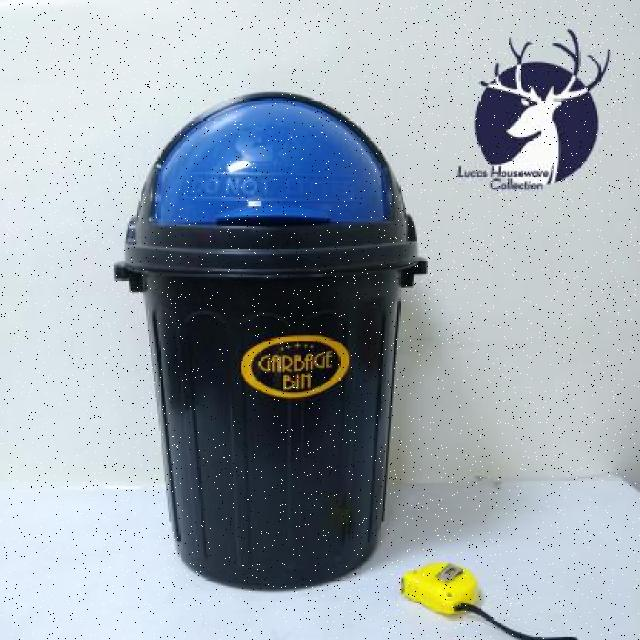garbage container: (94, 77, 428, 594)
